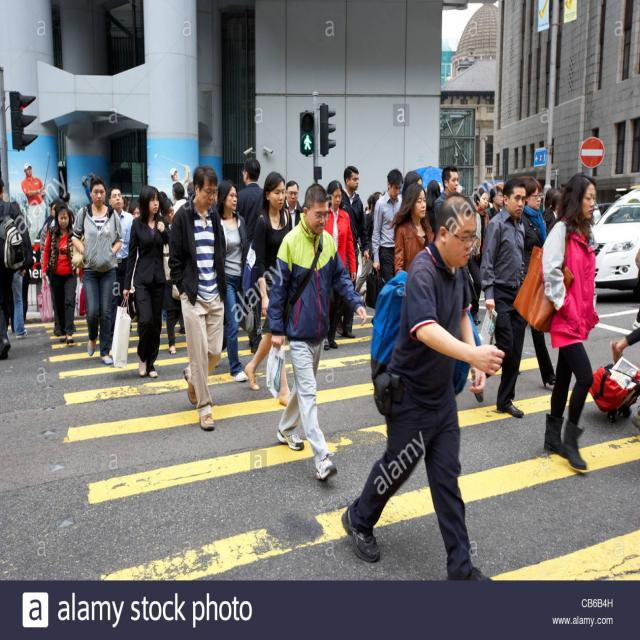body: (340, 189, 507, 582), (264, 181, 369, 483), (538, 169, 600, 472), (166, 165, 228, 432), (478, 176, 528, 420), (243, 170, 293, 408), (66, 172, 124, 366), (516, 176, 562, 390), (121, 183, 170, 379), (214, 179, 248, 383), (36, 202, 80, 346), (334, 163, 370, 338), (609, 240, 640, 440), (234, 156, 264, 355), (0, 178, 32, 364), (323, 180, 358, 350), (370, 167, 404, 328), (38, 199, 74, 338), (387, 182, 436, 276), (158, 196, 184, 356), (466, 186, 492, 327), (106, 185, 135, 310), (17, 157, 53, 250), (9, 200, 30, 340), (8, 201, 27, 339), (432, 164, 466, 222), (168, 160, 196, 226), (365, 191, 383, 262), (283, 180, 304, 232), (426, 180, 442, 242), (543, 192, 563, 236), (484, 185, 504, 223), (401, 170, 423, 204), (78, 171, 99, 204), (59, 190, 76, 230), (170, 180, 188, 217), (542, 187, 560, 217), (363, 194, 374, 224), (127, 201, 142, 219), (123, 195, 131, 212)
